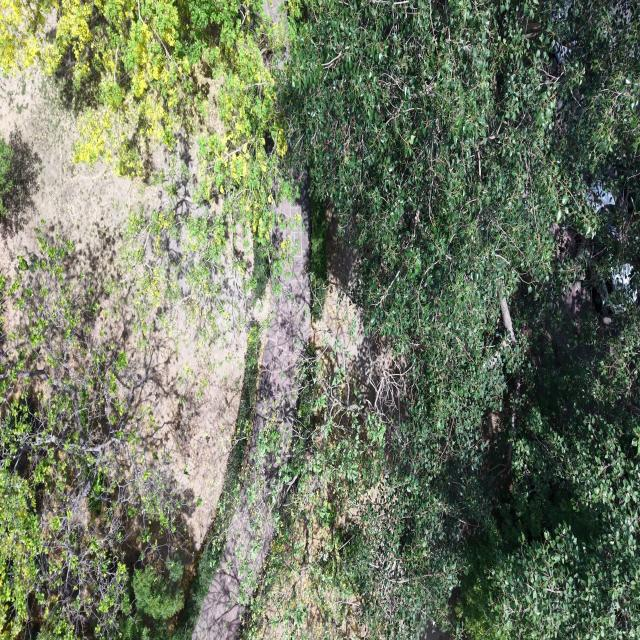DRY_AREA: (0, 69, 246, 550), (192, 194, 400, 639), (192, 195, 310, 639), (193, 202, 309, 639), (193, 203, 309, 639), (0, 69, 158, 271), (200, 494, 370, 639), (241, 472, 366, 639), (263, 0, 282, 22)
PATHWAYS: (193, 201, 310, 639)
VEGETATION_TREE: (0, 0, 639, 639), (283, 2, 639, 638), (0, 230, 260, 639), (0, 0, 290, 338), (0, 0, 291, 323), (0, 232, 183, 638), (460, 288, 639, 638), (0, 0, 285, 197), (244, 347, 382, 638), (177, 323, 261, 639), (125, 559, 184, 638), (0, 129, 41, 231), (309, 200, 328, 319), (0, 139, 13, 217)
